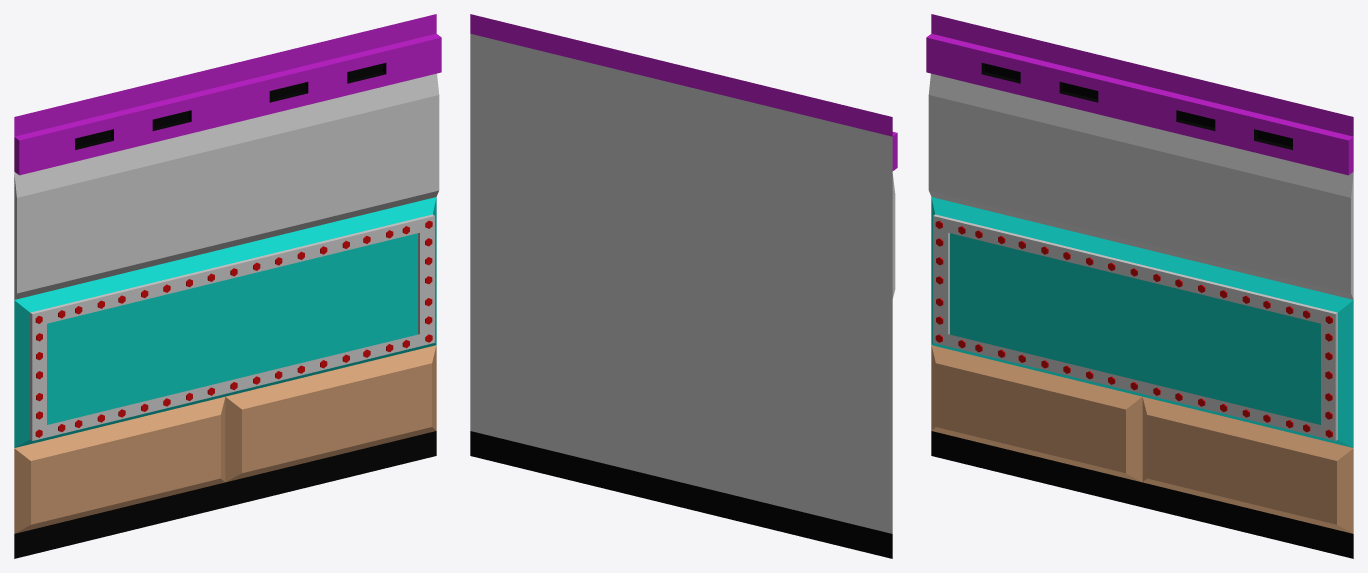
The model's file is wall.fbx.
3 views of the same model, side by side, from view 1: azimuth 30°, elevation 25°; view 2: azimuth 150°, elevation 25°; view 3: azimuth 330°, elevation 25° (orthographic).
Parts seen in each view (by area): view 1: Плоскость, Цилиндр; view 2: Плоскость; view 3: Плоскость, Цилиндр.
Boxes of the visible parts, left/top/right/bottom form: Плоскость: left=14, top=14, right=441, bottom=558; Цилиндр: left=35, top=220, right=432, bottom=437; Плоскость: left=470, top=14, right=897, bottom=558; Плоскость: left=926, top=14, right=1353, bottom=558; Цилиндр: left=935, top=220, right=1332, bottom=437.
Bounding box in the file's own units: 100 × 100 × 3.64.
